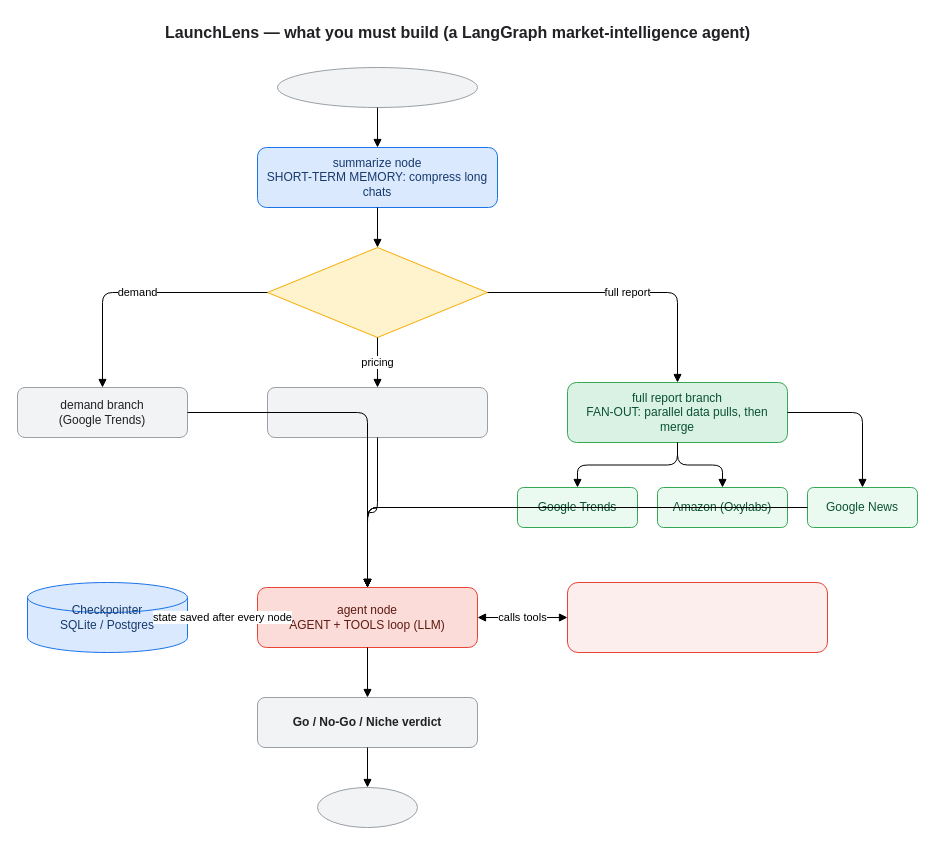
Image size: 935x845. Some labels were removed from this diagram. The shapes that lost their labels are listed below. From the top down, each one's centre as x and y in pixels, then its label:
At [377,87]: "Founder asks a question".
At [377,292]: "router ROUTING: classify the ask".
At [377,412]: "pricing branch (Shopping + Amazon)".
At [697,617]: "Tools SerpApi: Trends, Shopping, News Oxylabs: search, product, pricing, reviews".
At [367,807]: "END".
